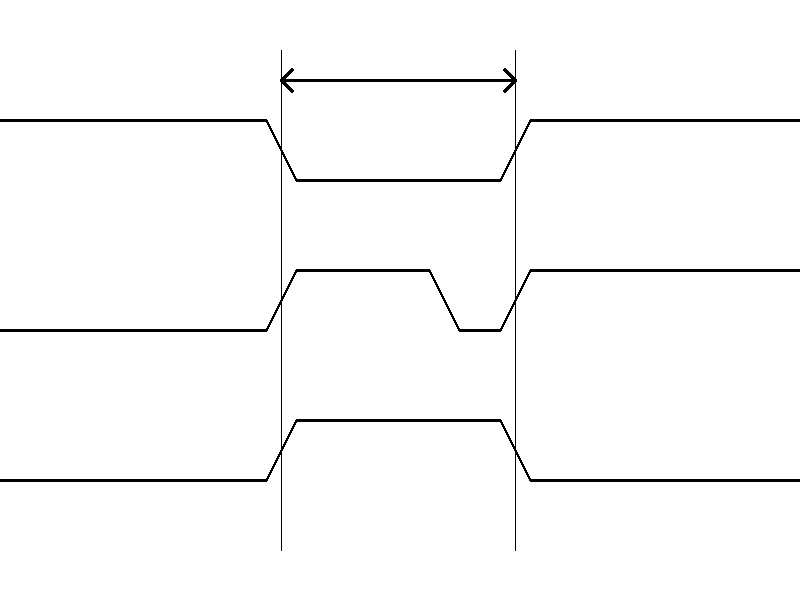double_arrow: (281, 65, 515, 95)
